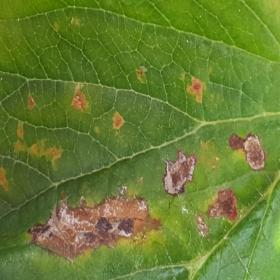Angular Leafspot: (0, 15, 269, 263)
